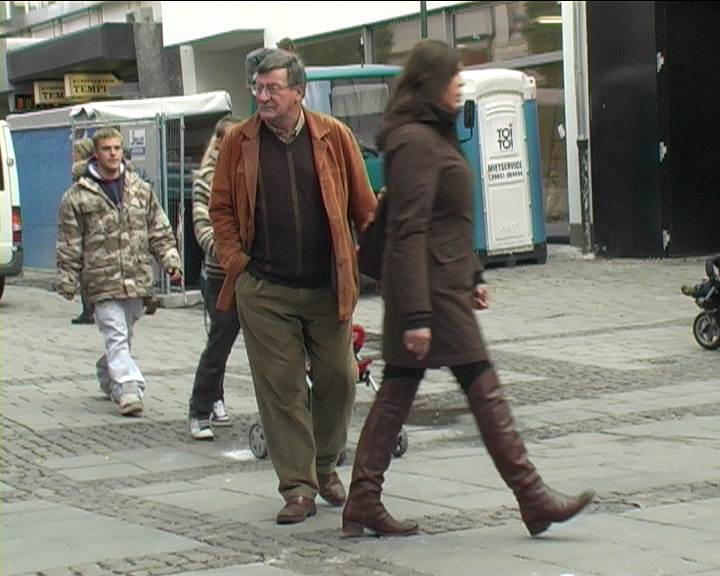deflection: (224, 61, 356, 170)
undeflect: (71, 125, 163, 214)
